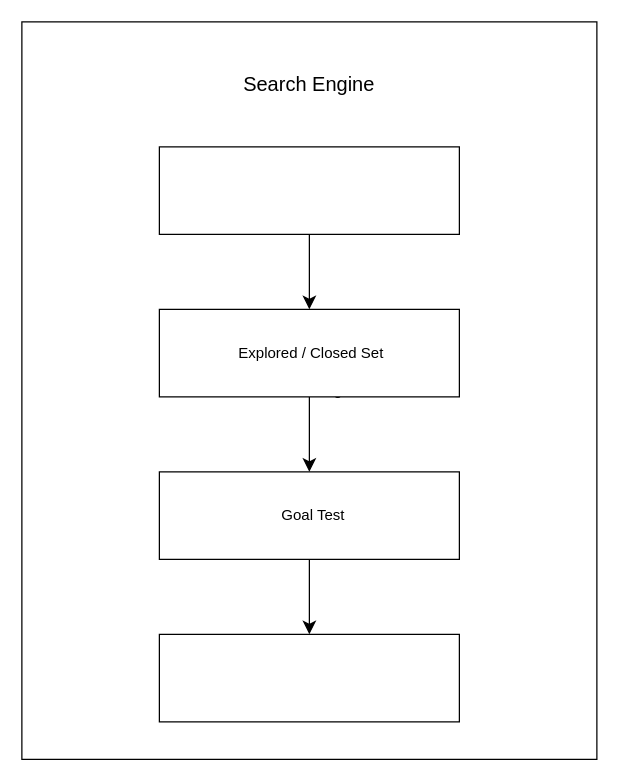
This 619x781 diagram has some shape labels left out. The centre of each missing label's shape, as x and y in pixels:
"Frontier / Open List" goes at point 308,190.
"Path Reconstructor" goes at point 308,677.
